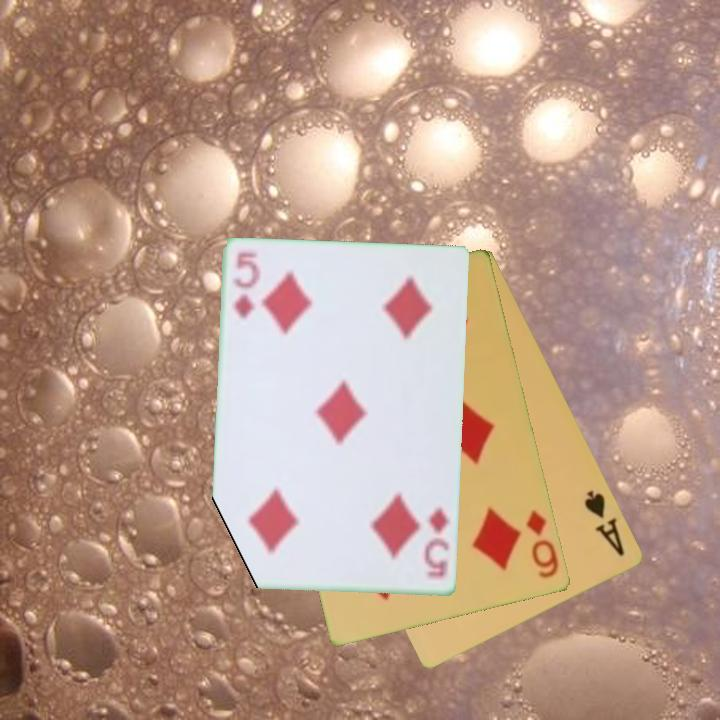5d: (421, 504, 453, 581), (229, 248, 260, 322)
6d: (523, 507, 562, 582)
As: (581, 486, 628, 560)
